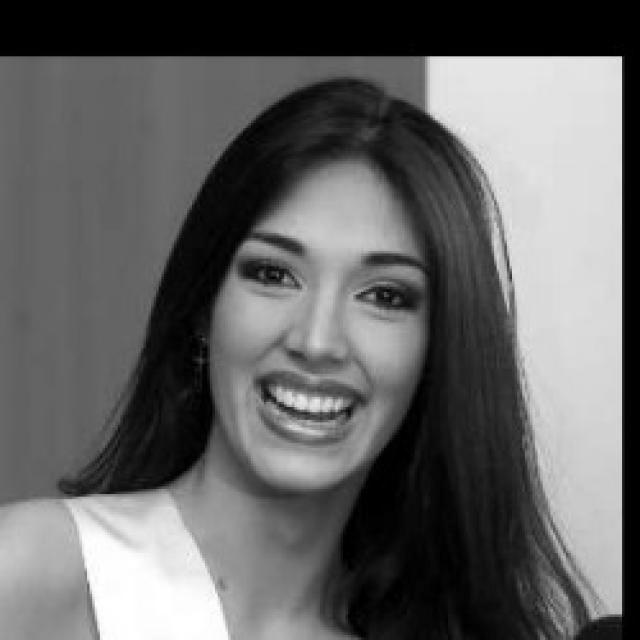real: (208, 152, 432, 490), (218, 237, 425, 328)
